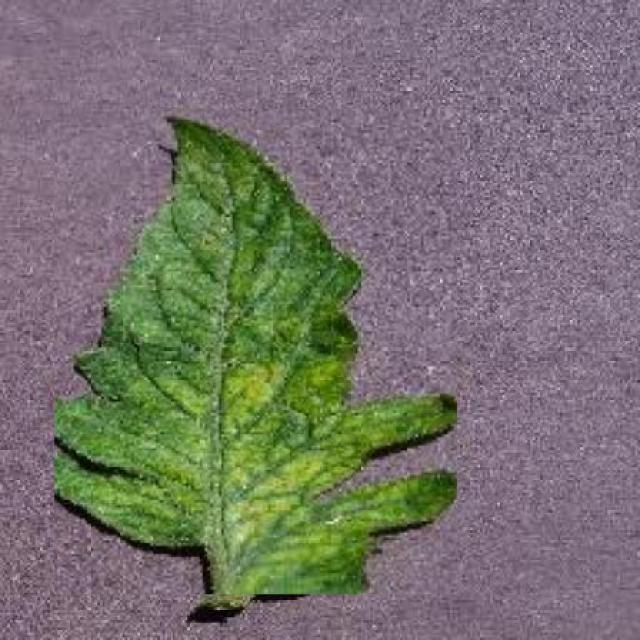Mosaic Virus: (54, 108, 457, 595)
